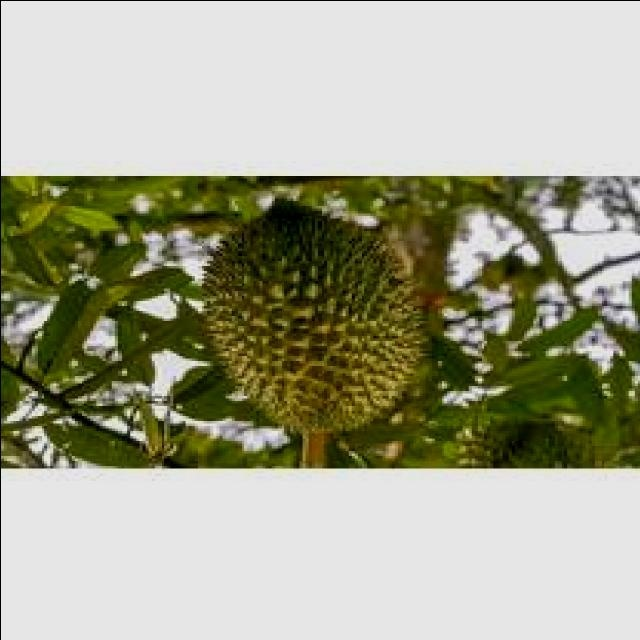agrume: (197, 200, 431, 442)
